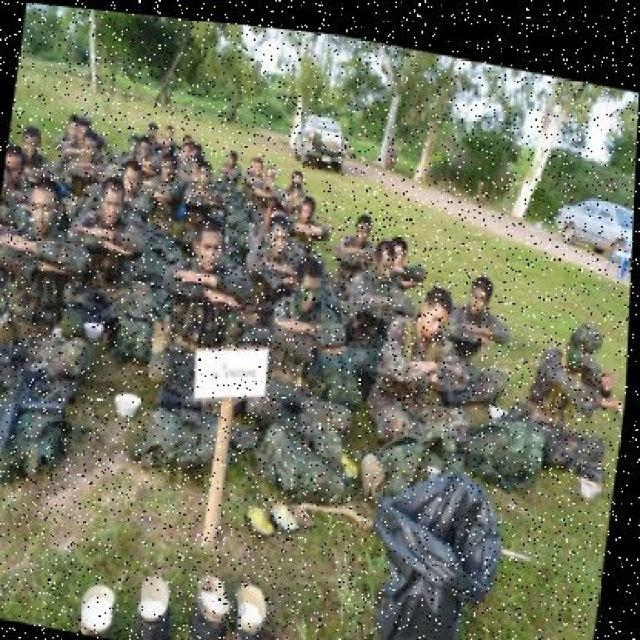MIL_Pax: (43, 120, 337, 222), (526, 298, 622, 453), (268, 242, 358, 406), (390, 282, 465, 461), (164, 217, 244, 366), (0, 182, 68, 352), (453, 248, 533, 388), (346, 225, 423, 363), (73, 176, 145, 287), (242, 206, 307, 297), (0, 167, 18, 284)
